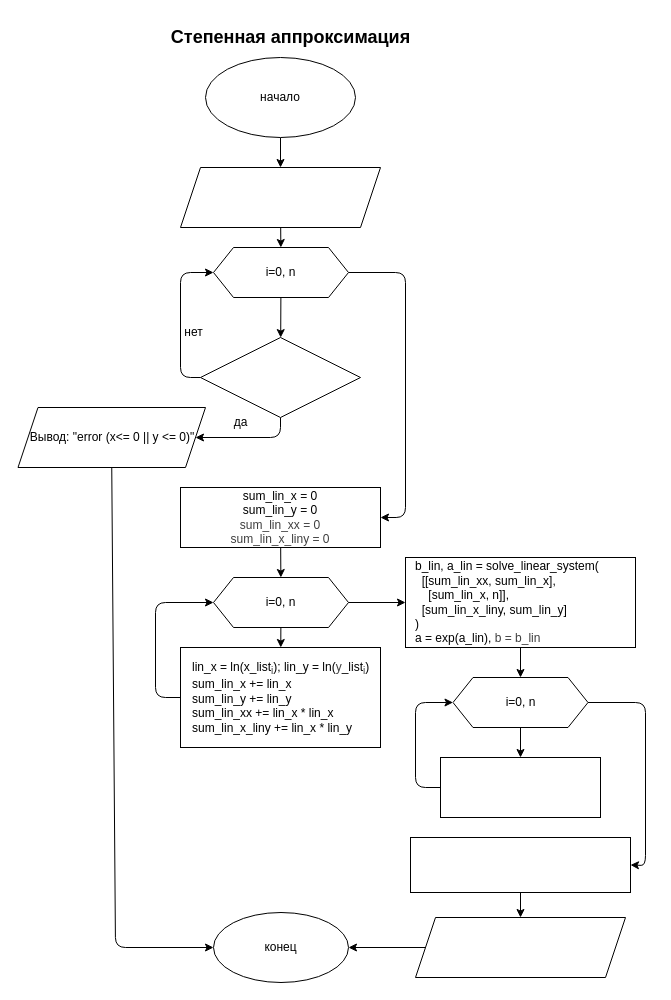
This 671x1000 diagram has some shape labels left out. The centre of each missing label's shape, as x and y in pixels:
"n, x_list, y_list" belongs at [280,197].
"phi i = a * ( x_list i ^ b)" belongs at [520,787].
"S, delta, R2 = calculate_metrics(phi, y_list, n)" belongs at [520,864].
"y _list i <= 0 || x_list i <= 0" belongs at [280,377].
"Вывод: [a, b], phi, S, delta, R2" belongs at [520,947].
